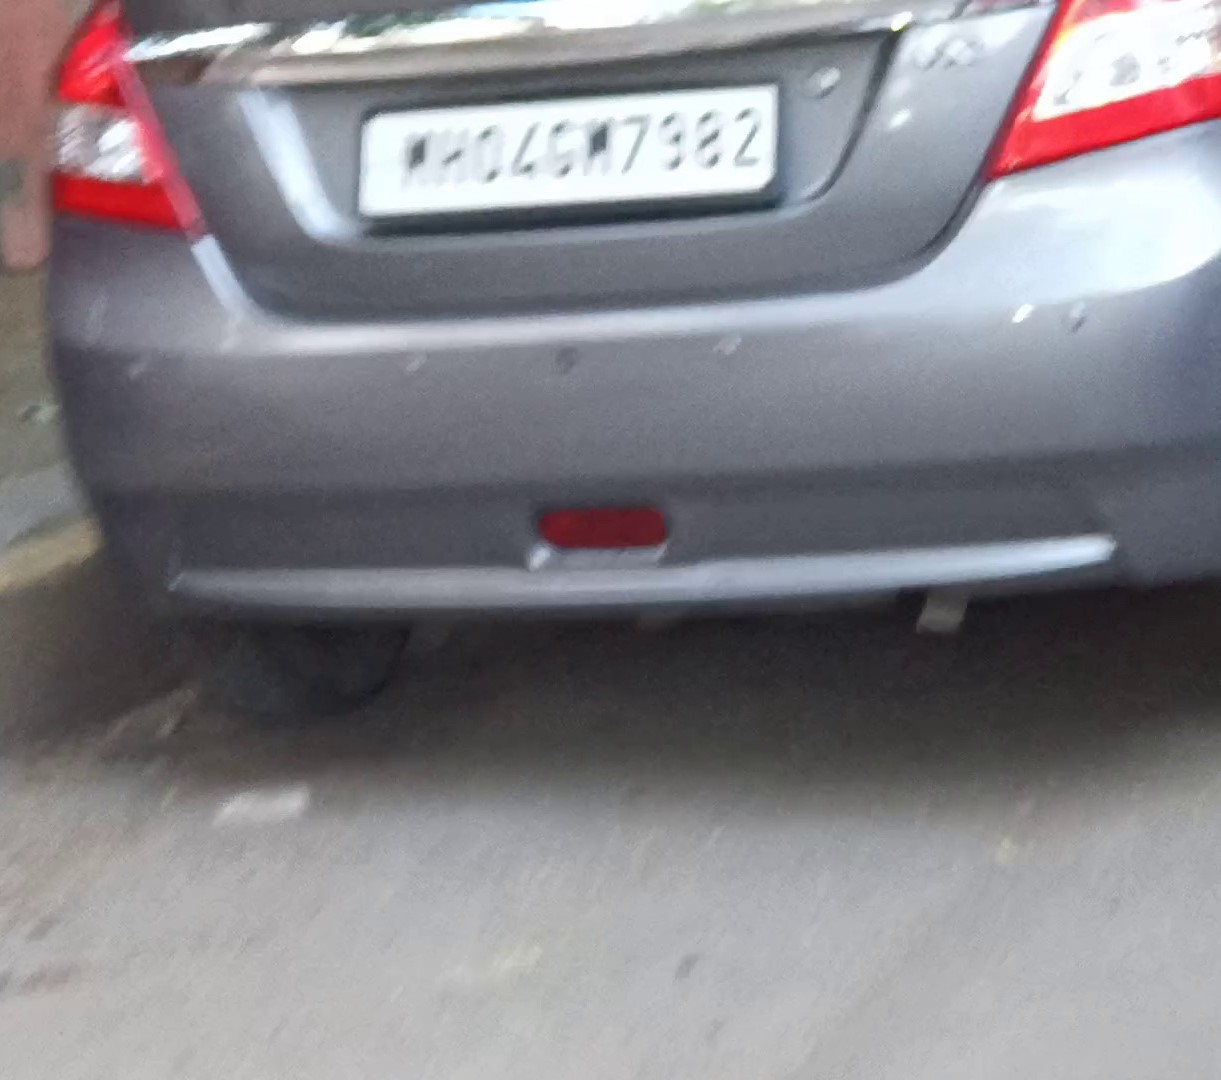MH04GM7982: (358, 81, 777, 220)
